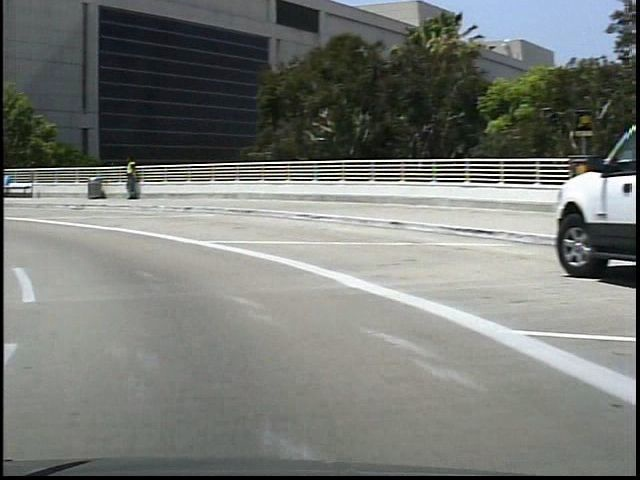person: (117, 154, 136, 203)
